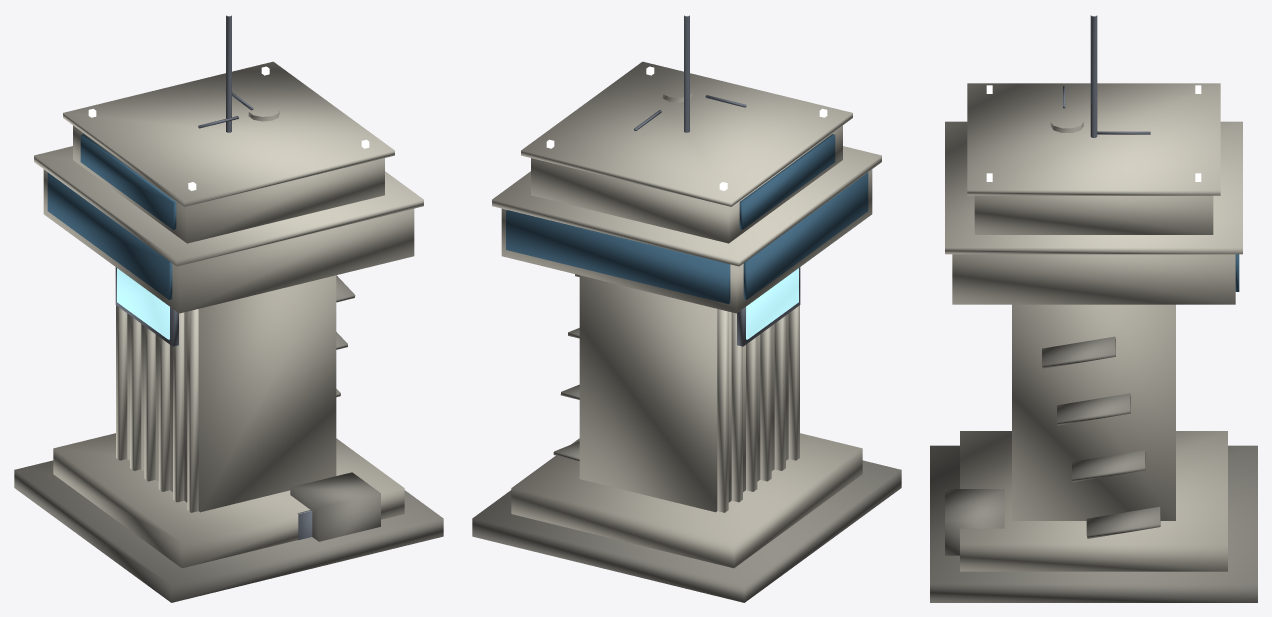
Rendered from paulistano_historic_paddock_tower.glb.
The picture shows the model from 3 angles, left to right: view 1: azimuth 30°, elevation 25°; view 2: azimuth 150°, elevation 25°; view 3: azimuth 270°, elevation 25°; orthographic projection. The views are drawn at different scales.
Visible parts, largest first — view 1: Surface_concrete, Surface_concrete_light, Surface_concrete_dark, Surface_glass, Surface_steel, Surface_screen; view 2: Surface_concrete, Surface_concrete_light, Surface_glass, Surface_concrete_dark, Surface_screen, Surface_steel; view 3: Surface_concrete, Surface_concrete_light, Surface_concrete_dark, Surface_steel.
Boxes of the visible parts, left/top/right/bottom form: Surface_concrete: left=43, top=125, right=414, bottom=568; Surface_concrete_light: left=34, top=61, right=423, bottom=512; Surface_concrete_dark: left=14, top=275, right=443, bottom=602; Surface_glass: left=47, top=134, right=176, bottom=299; Surface_steel: left=115, top=15, right=312, bottom=540; Surface_screen: left=117, top=268, right=169, bottom=339; Surface_concrete: left=501, top=125, right=872, bottom=568; Surface_concrete_light: left=492, top=61, right=881, bottom=512; Surface_glass: left=506, top=134, right=868, bottom=304; Surface_concrete_dark: left=472, top=274, right=901, bottom=602; Surface_screen: left=746, top=268, right=798, bottom=339; Surface_steel: left=634, top=15, right=800, bottom=346; Surface_concrete: left=952, top=195, right=1235, bottom=571; Surface_concrete_light: left=945, top=83, right=1242, bottom=254; Surface_concrete_dark: left=930, top=336, right=1257, bottom=602; Surface_steel: left=1063, top=15, right=1150, bottom=137.
Size of the model in its own units: 22 by 38.4 by 22.
